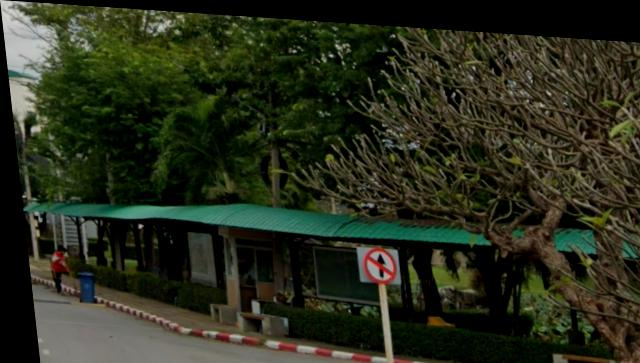not_go_straight: (357, 244, 393, 279)
